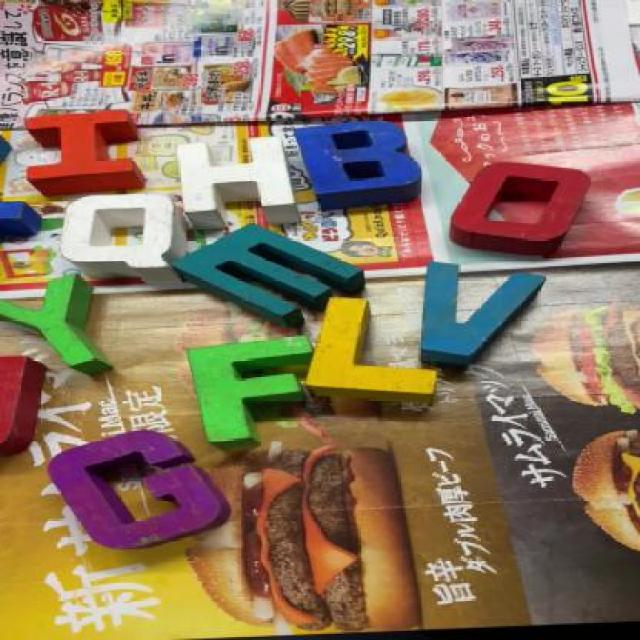B: (298, 114, 439, 212)
F: (189, 338, 316, 436)
G: (49, 432, 236, 543)
H: (173, 142, 301, 222)
I: (16, 111, 141, 189)
L: (310, 294, 435, 406)
M: (189, 220, 374, 318)
O: (449, 162, 594, 261)
Q: (63, 193, 185, 287)
V: (403, 258, 546, 365)
Y: (0, 274, 112, 376)
